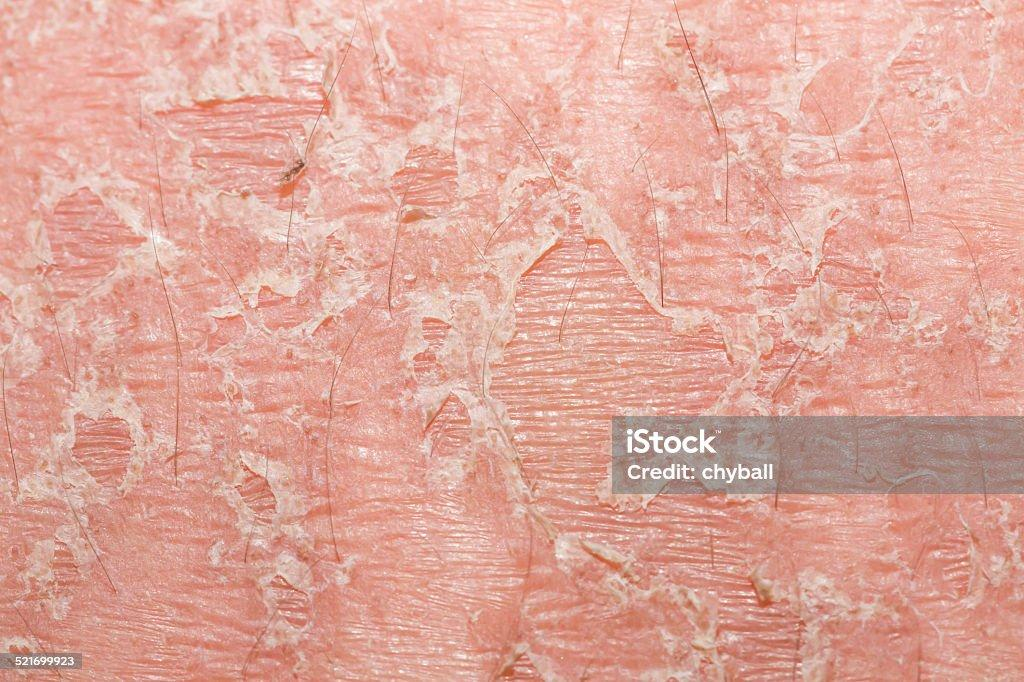Dry-Skin: (231, 8, 600, 394), (638, 18, 978, 412), (518, 363, 906, 682), (8, 118, 198, 501), (208, 366, 425, 682)
